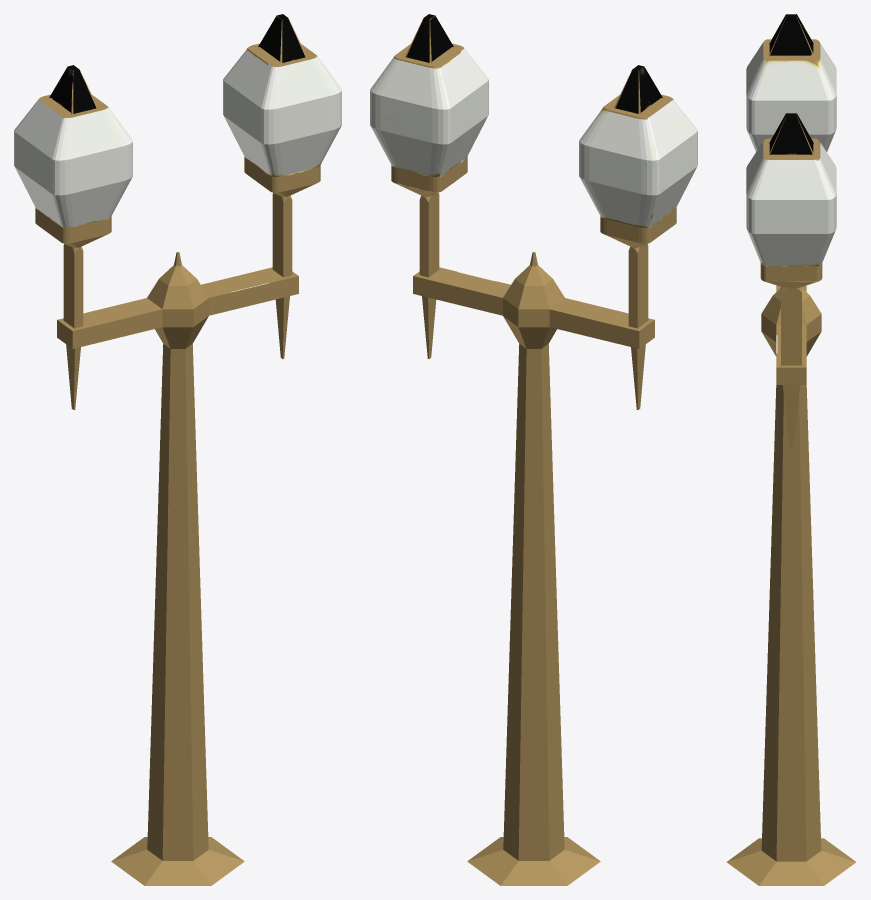
File: poste.fbx
3 views of the same model, side by side, from view 1: azimuth 30°, elevation 25°; view 2: azimuth 150°, elevation 25°; view 3: azimuth 270°, elevation 25° (orthographic). The views are drawn at different scales.
Parts seen in each view (by area): view 1: Cylinder; view 2: Cylinder; view 3: Cylinder.
Part boxes in pixels (left/top/right/bottom): Cylinder: left=14, top=14, right=341, bottom=885; Cylinder: left=370, top=14, right=697, bottom=885; Cylinder: left=726, top=14, right=856, bottom=885.
Bounding box in the file's own units: 322 × 872 × 129.
1 material, 1 textured.
